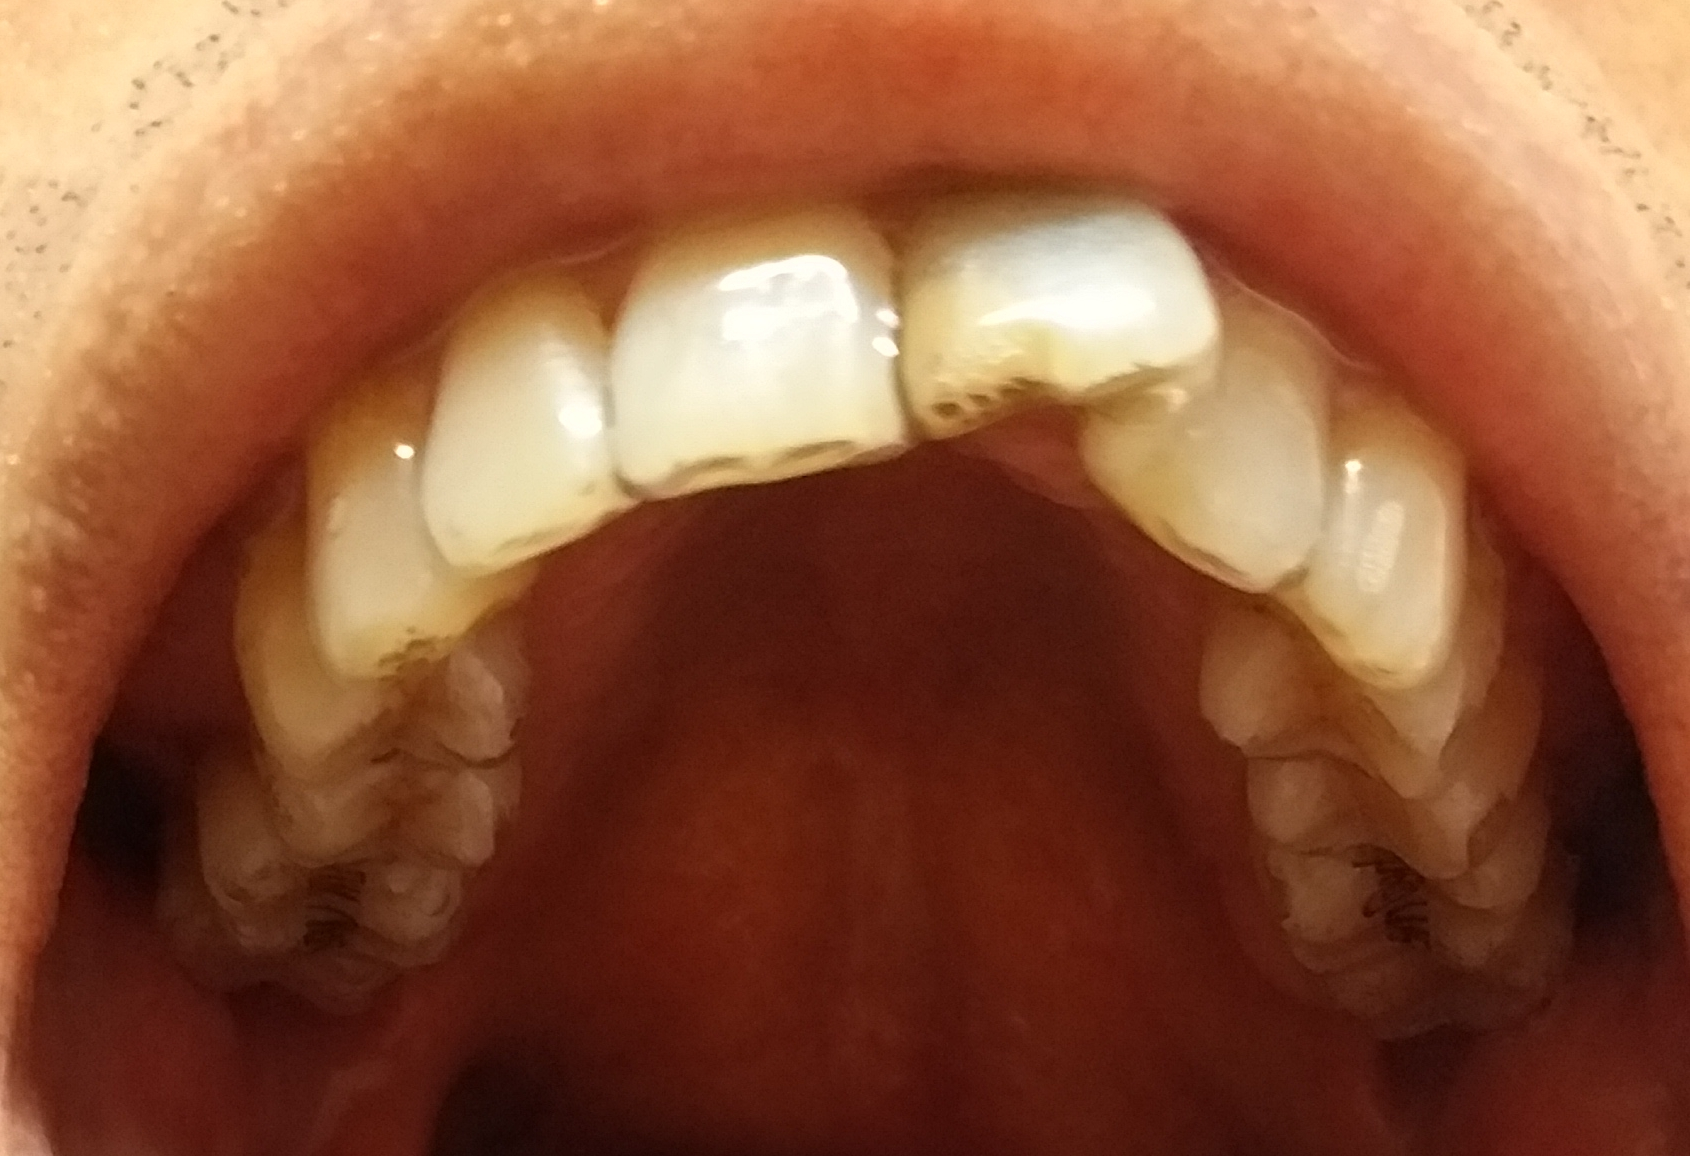teeth: (618, 191, 902, 504), (1098, 289, 1346, 599), (912, 182, 1194, 439), (1185, 606, 1491, 805), (239, 573, 520, 778), (430, 277, 619, 570), (297, 394, 471, 667), (1307, 407, 1473, 691), (259, 773, 506, 876)
